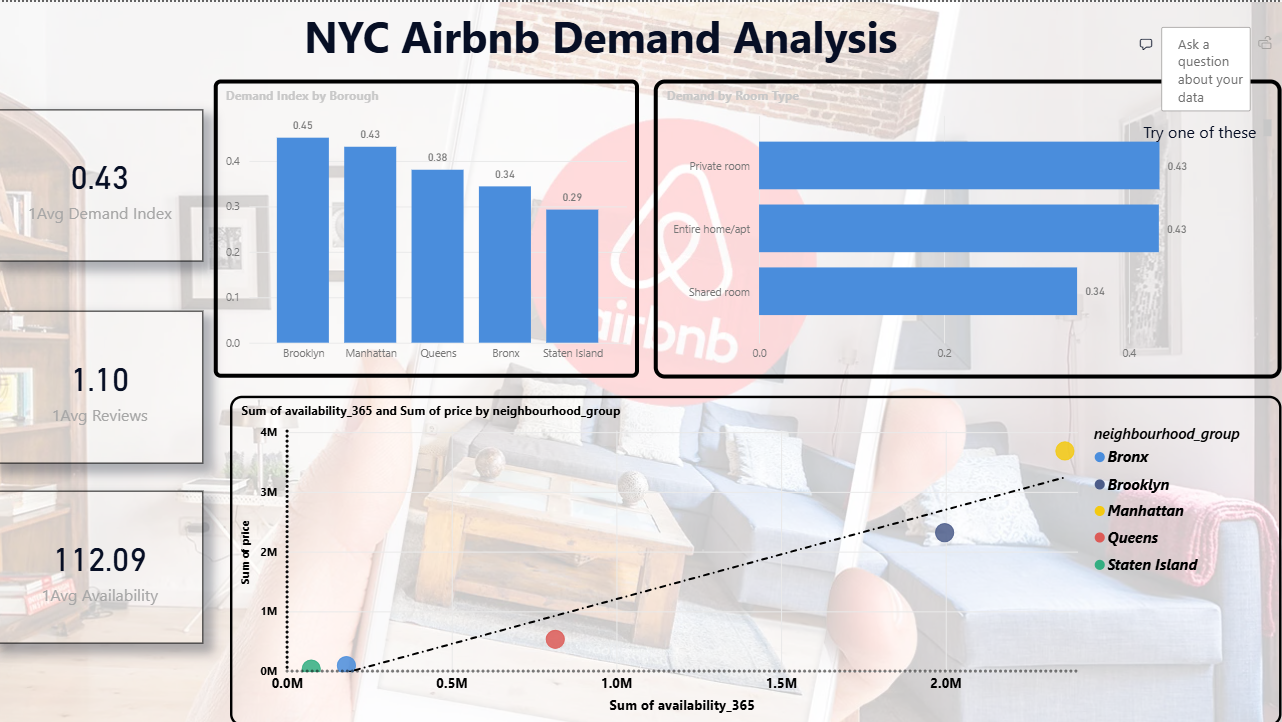

What the dashboard file says about the page in this screenshot:
{"tool":"powerbi","page":{"name":"Page 2","canvas":[1280,720],"ordinal":1},"visuals":[{"type":"textbox","box":[65,0,1152.2,68.7],"z":0},{"type":"card","fields":{"Values":["nyc_dynamic_pricing_final.1Avg Demand Index"]},"box":[0,106.7,207.4,150.9],"z":1000},{"type":"card","fields":{"Values":["nyc_dynamic_pricing_final.1Avg Reviews"]},"box":[0,306.8,207.4,152.1],"z":2000},{"type":"card","fields":{"Values":["nyc_dynamic_pricing_final.1Avg Availability"]},"box":[0,485.9,207.4,152.1],"z":3000},{"type":"clusteredColumnChart","title":" Demand Index by Borough","fields":{"Category":["nyc_dynamic_pricing_final.neighbourhood_group"],"Y":["nyc_dynamic_pricing_final.1Avg Demand Index"]},"box":[217.2,77.3,423.3,296.9],"z":4000},{"type":"barChart","title":"Demand by Room Type","fields":{"Category":["nyc_dynamic_pricing_final.room_type"],"Y":["nyc_dynamic_pricing_final.1Avg Demand Index"]},"box":[655.6,77.1,624.5,297.3],"z":5000},{"type":"scatterChart","fields":{"X":["Sum(nyc_dynamic_pricing_final.availability_365)"],"Y":["Sum(nyc_dynamic_pricing_final.price)"],"Series":["nyc_dynamic_pricing_final.neighbourhood_group"]},"box":[233.9,391.8,1046.2,328.4],"z":6000},{"type":"qnaVisual","box":[1130,0,150,150],"z":6001}]}

Visuals, with their boxes in screenshot pixels (x1, y1, x2, y2), scaled from the page's 1280x720 canvas onto the 1282x722 screenshot:
textbox: box=[65, 0, 1219, 69]
card - nyc_dynamic_pricing_final.1Avg Demand Index: box=[0, 107, 208, 258]
card - nyc_dynamic_pricing_final.1Avg Reviews: box=[0, 308, 208, 460]
card - nyc_dynamic_pricing_final.1Avg Availability: box=[0, 487, 208, 640]
" Demand Index by Borough" clusteredColumnChart: box=[218, 78, 642, 375]
"Demand by Room Type" barChart: box=[657, 77, 1281, 375]
scatterChart - Sum(nyc_dynamic_pricing_final.availability_365) x Sum(nyc_dynamic_pricing_final.price): box=[234, 393, 1281, 721]
qnaVisual: box=[1132, 0, 1281, 150]
